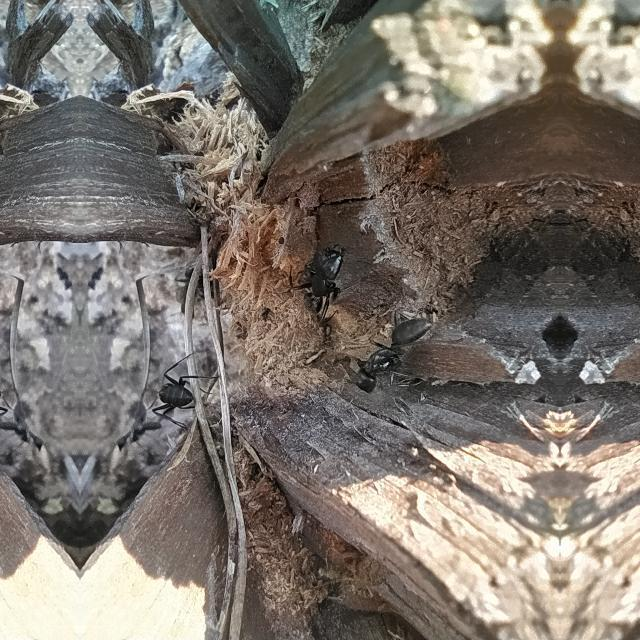Camponotus: (342, 298, 444, 404), (290, 240, 368, 332), (148, 364, 216, 428)
